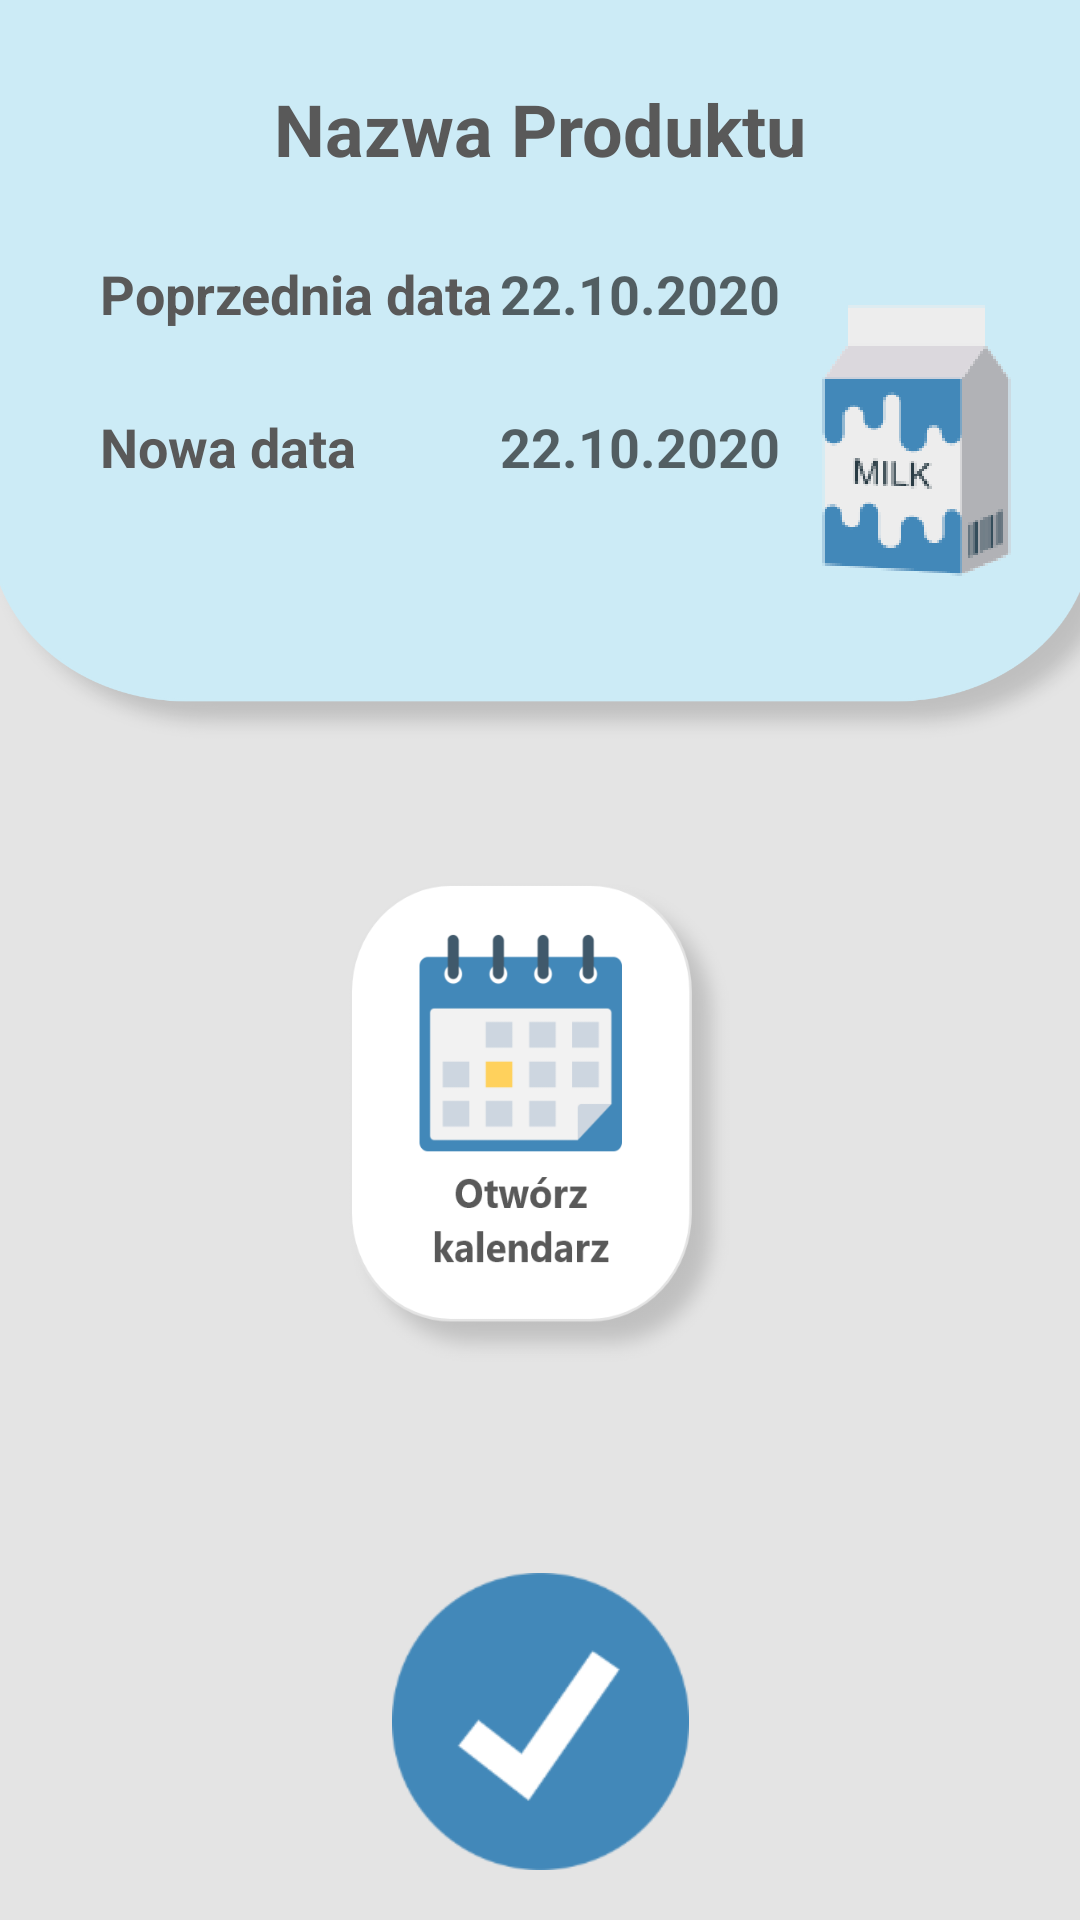

Icons on this 1080*1920 Android screen, each with its box as [x1, y1, x2, y2]:
check: [392, 1573, 689, 1870]
